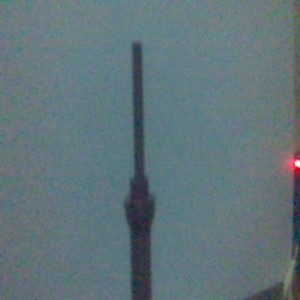obeng: (123, 40, 156, 300)
